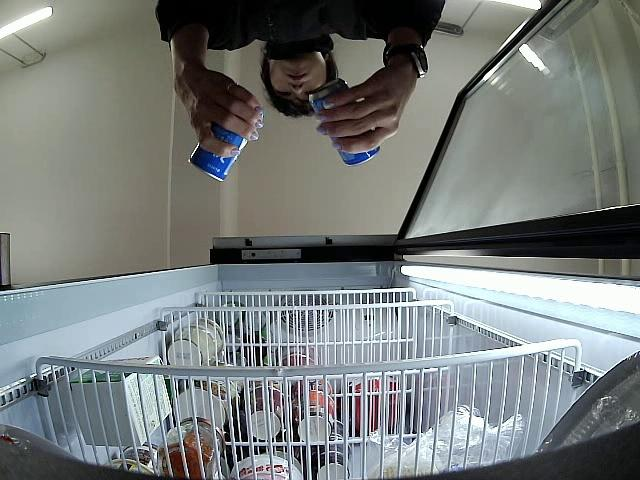00_hand: (171, 60, 266, 159), (314, 61, 414, 154)
15_letsbe: (308, 76, 381, 168), (188, 124, 248, 181)
